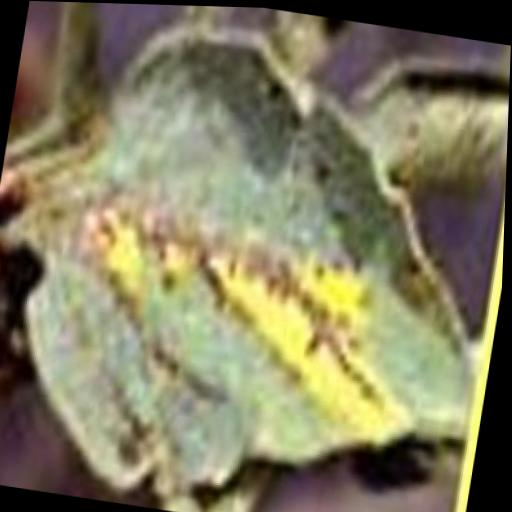Bacterial Spot: (0, 1, 512, 512)
